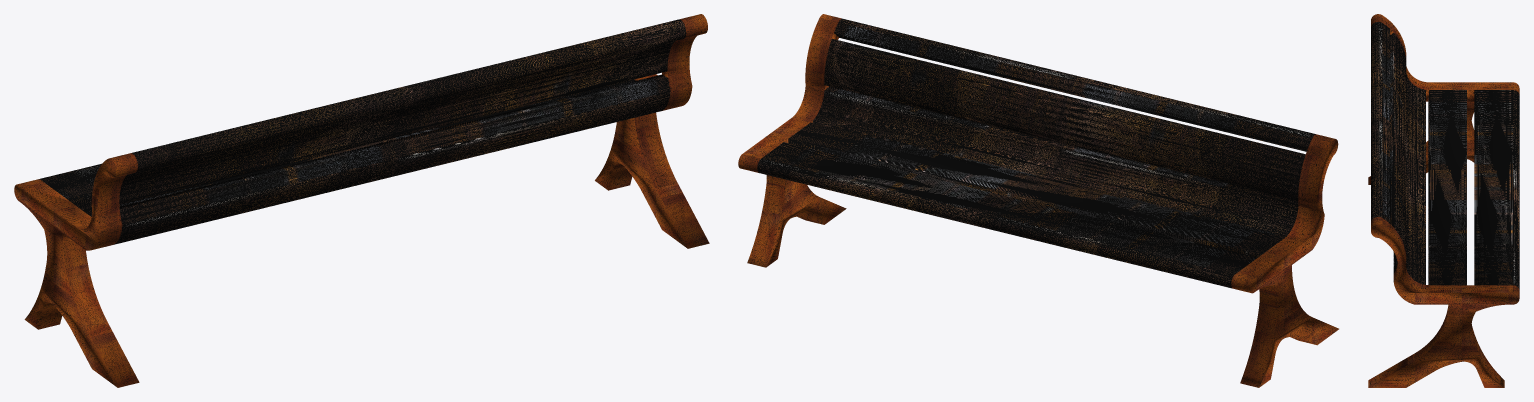
The picture shows the model from 3 angles, left to right: view 1: azimuth 30°, elevation 25°; view 2: azimuth 150°, elevation 25°; view 3: azimuth 270°, elevation 25°; orthographic projection. The views are drawn at different scales.
Parts seen in each view (by area): view 1: mesh1_mesh1-geometry; view 2: mesh1_mesh1-geometry; view 3: mesh1_mesh1-geometry.
Part boxes in pixels (x1,y1,x2,y2): mesh1_mesh1-geometry: (14,14,709,387); mesh1_mesh1-geometry: (738,14,1338,387); mesh1_mesh1-geometry: (1368,14,1519,387).
Size of the model in its own units: 0.9044 by 0.327 by 0.2741.
